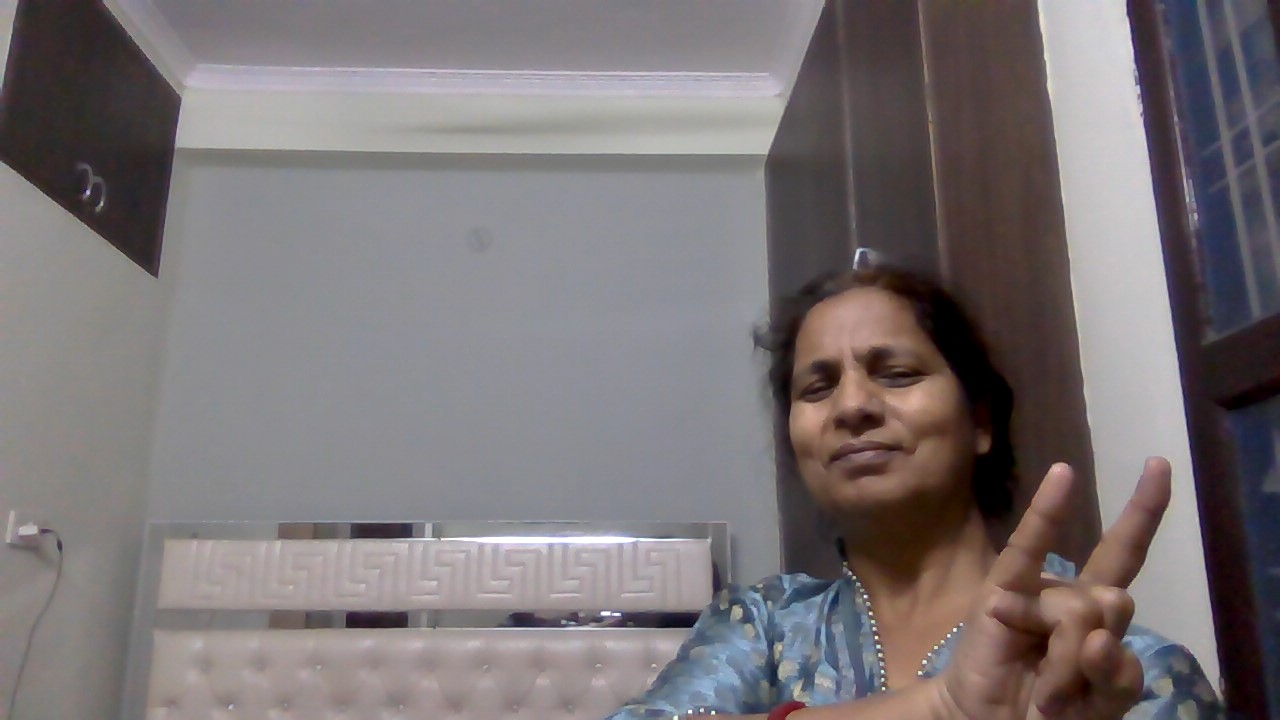Select All: (952, 446, 1189, 720)
